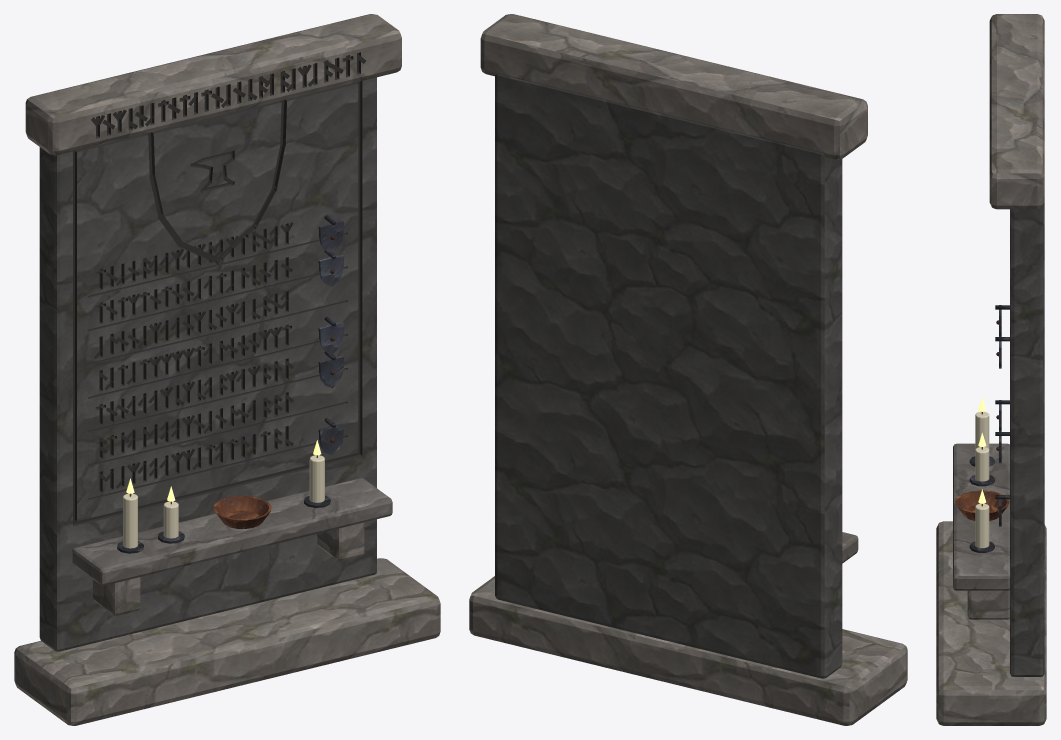
Rendered from hs_roll_of_honour.glb.
3 views of the same model, side by side, from view 1: azimuth 30°, elevation 25°; view 2: azimuth 150°, elevation 25°; view 3: azimuth 270°, elevation 25° (orthographic). The views are drawn at different scales.
Parts seen in each view (by area): view 1: model; view 2: model; view 3: model.
Boxes of the visible parts, bbox=[...] form: model: bbox=[14, 14, 440, 725]; model: bbox=[469, 14, 907, 725]; model: bbox=[936, 14, 1046, 725].
Size of the model in its own units: 1.1 by 1.66 by 0.3.
12 materials, 8 textured.
